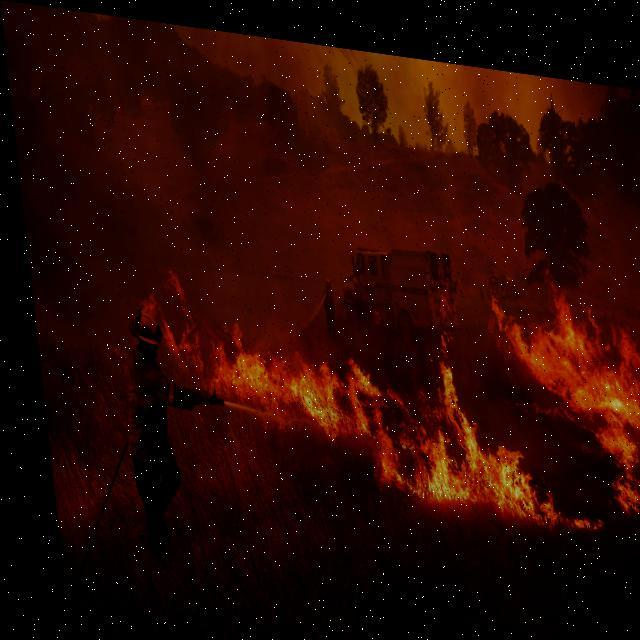Fire: (190, 209, 639, 534)
